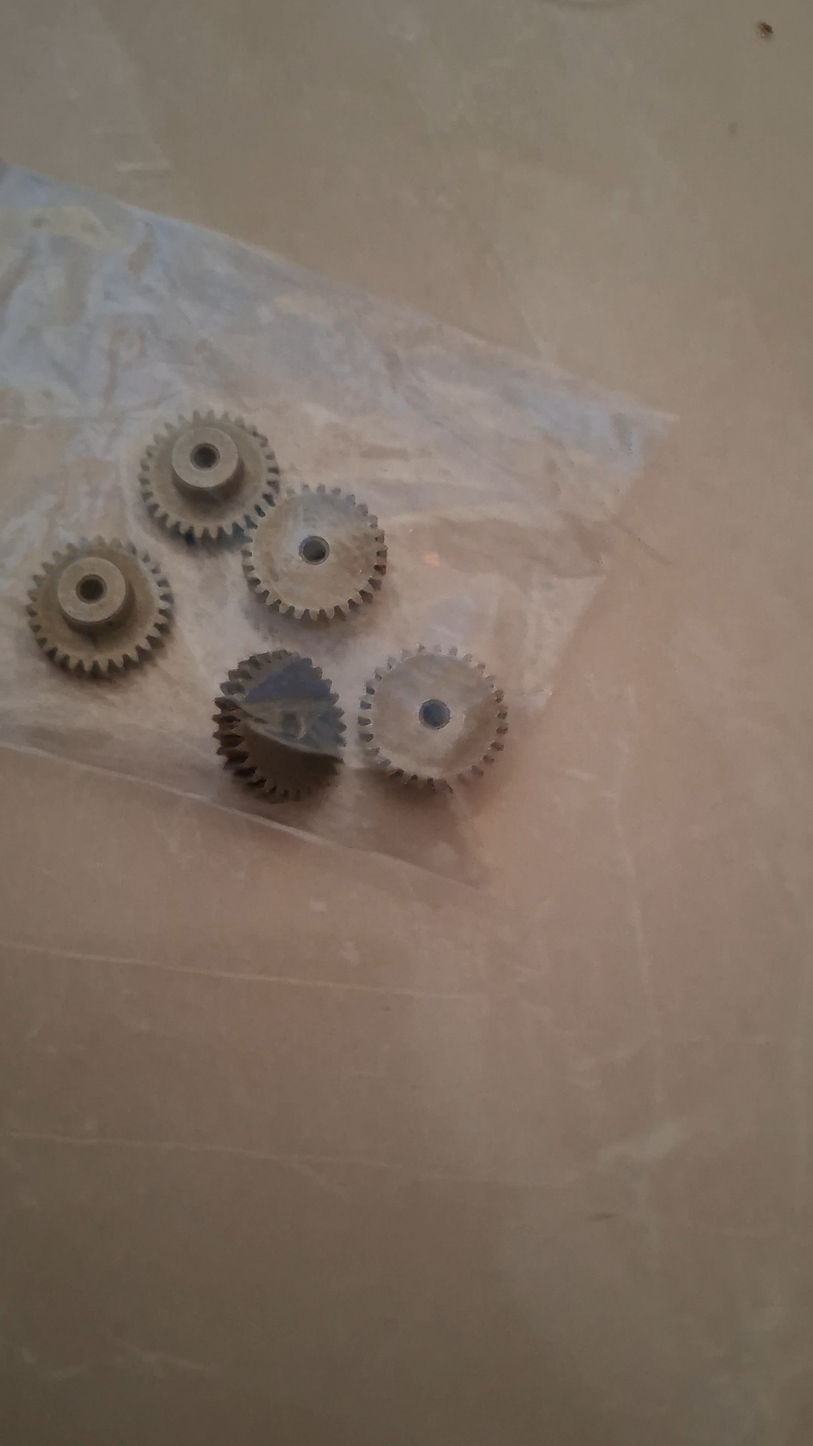spur gear: (358, 646, 507, 788), (27, 537, 172, 675), (214, 650, 344, 799), (243, 485, 386, 620), (140, 411, 279, 541)
